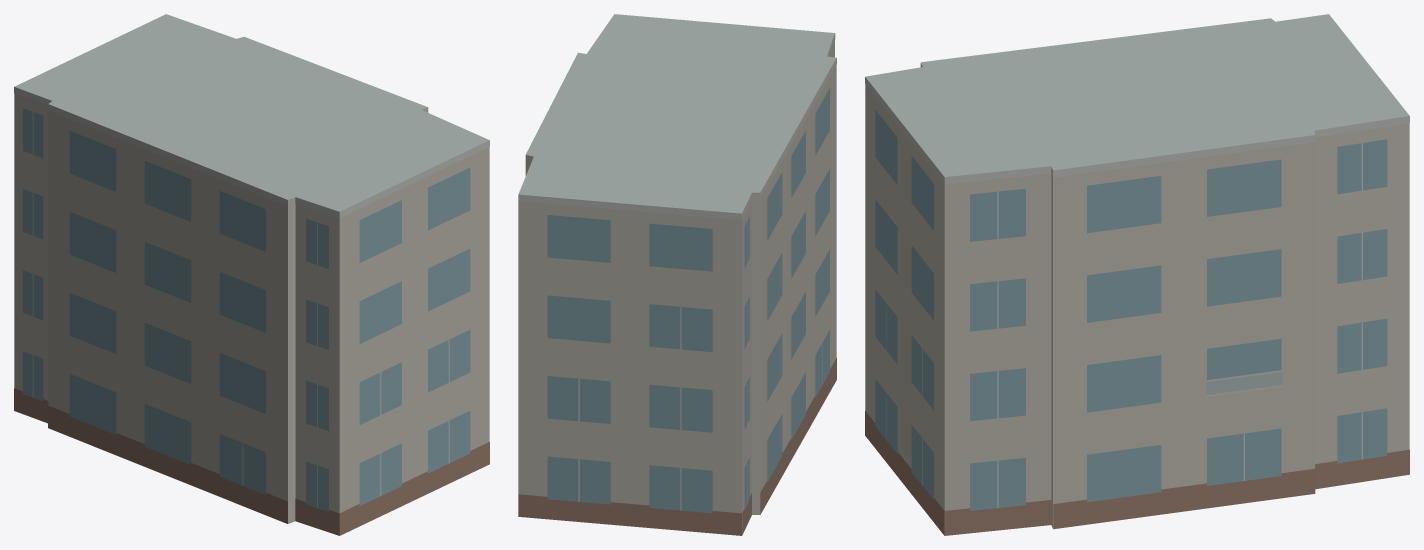
File: survey-upis-32747642.glb
3 renders of one model, left to right at view 1: azimuth 30°, elevation 25°; view 2: azimuth 150°, elevation 25°; view 3: azimuth 270°, elevation 25°, orthographic. The views are drawn at different scales.
Visible parts, largest first — view 1: survey-upis-32747642.tmp; view 2: survey-upis-32747642.tmp; view 3: survey-upis-32747642.tmp.
Boxes of the visible parts, <box> form: survey-upis-32747642.tmp: <box>14,14,489,535</box>; survey-upis-32747642.tmp: <box>518,14,836,535</box>; survey-upis-32747642.tmp: <box>865,14,1409,535</box>.
Bounding box in the file's own units: 11.91 × 12.2 × 16.8.
